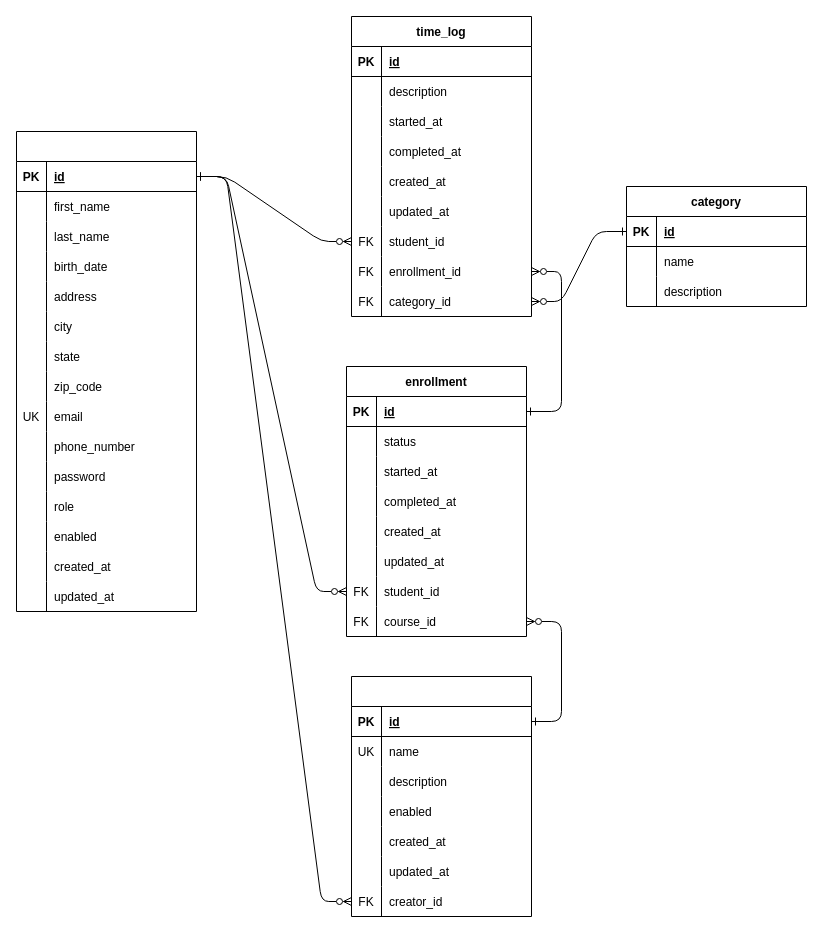
Image size: 823x933. Some labels were removed from this diagram. Here are the shapes that lost their labels. From the top down, the box of each, then its label:
(16, 130, 196, 612): account
(350, 676, 532, 916): course
